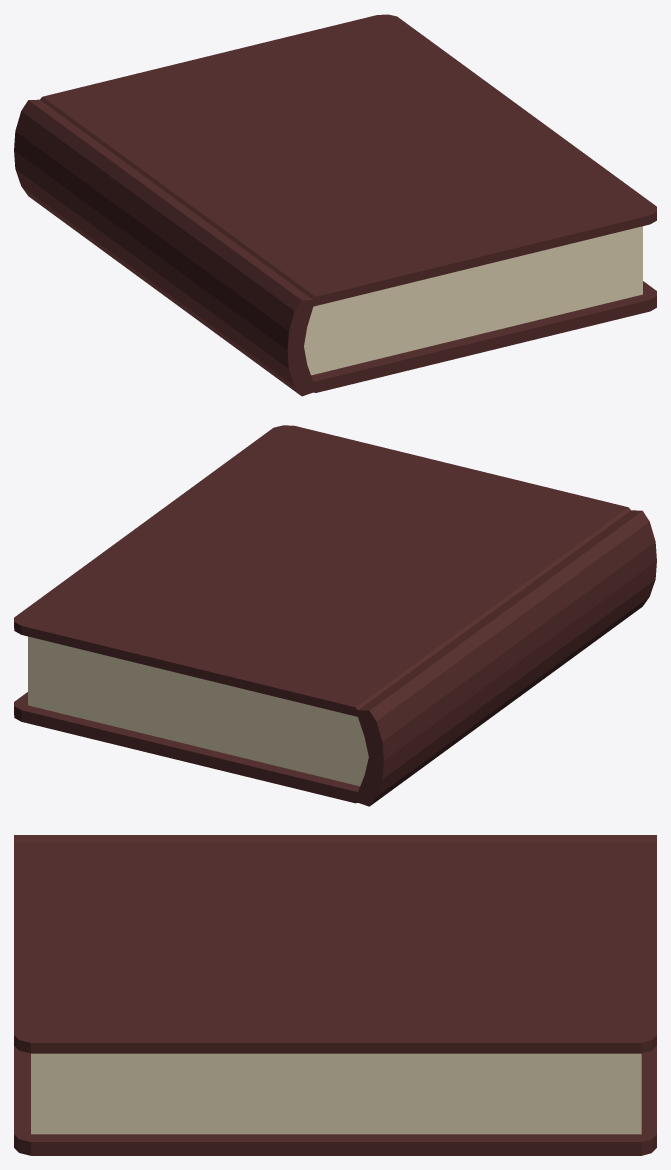
File: book.glb
The picture shows the model from 3 angles, top to bottom: view 1: azimuth 30°, elevation 25°; view 2: azimuth 150°, elevation 25°; view 3: azimuth 270°, elevation 25°; orthographic projection. The views are drawn at different scales.
Visible parts, largest first — view 1: Book; view 2: Book; view 3: Book.
Boxes of the visible parts, x1,y1,x2,y2 form: Book: (14, 14, 656, 396); Book: (14, 425, 656, 806); Book: (14, 835, 656, 1155).
Bounding box in the file's own units: 2.16 × 0.5273 × 2.72.
